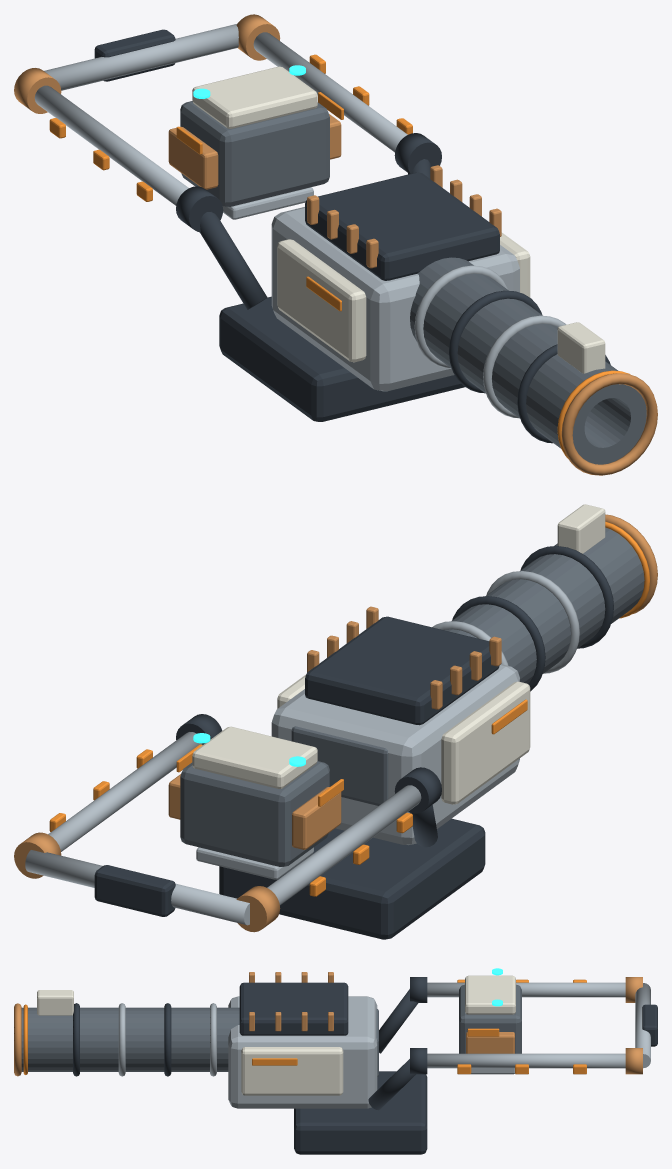
The model's file is M01-018_LEG-WPN-001_R1.glb.
3 views of the same model, one above another, from view 1: azimuth 30°, elevation 25°; view 2: azimuth 150°, elevation 25°; view 3: azimuth 270°, elevation 25° (orthographic). The views are drawn at different scales.
Visible parts, largest first — view 1: M01-018_True_hollow_barrel, M01-018_Receiver_upper, M01-018_Receiver, M01-018_Socket_foot, M01-018_Tungsten_counterweight, M01-018_Ceramic_shield_-1, M01-018_Counterweight_top_cap, M01-018_Open_rear_crossbar, M01-018_Exposed_guide_rail_-1, M01-018_Exposed_guide_rail_1, M01-018_Muzzle_copper_ring, M01-018_Rear_support_leg_-1 (+13 smaller); view 2: M01-018_Socket_foot, M01-018_Receiver_upper, M01-018_True_hollow_barrel, M01-018_Receiver, M01-018_Tungsten_counterweight, M01-018_Ceramic_shield_-1, M01-018_Counterweight_top_cap, M01-018_Breech_hatch, M01-018_Exposed_guide_rail_-1, M01-018_Exposed_guide_rail_1, M01-018_Open_rear_crossbar, M01-018_Rear_stop (+13 smaller); view 3: M01-018_True_hollow_barrel, M01-018_Socket_foot, M01-018_Receiver, M01-018_Receiver_upper, M01-018_Ceramic_shield_1, M01-018_Exposed_guide_rail_1, M01-018_Exposed_guide_rail_-1, M01-018_Counterweight_top_cap, M01-018_Tungsten_counterweight, M01-018_Top_muzzle_sight, M01-018_Counterweight_guide_fin_1, M01-018_Open_rear_crossbar (+16 smaller).
Part boxes in pixels (x1,y1,x2,y2): M01-018_True_hollow_barrel: (410,257,646,464); M01-018_Receiver_upper: (305,172,499,280); M01-018_Receiver: (271,207,519,391); M01-018_Socket_foot: (219,296,464,421); M01-018_Tungsten_counterweight: (180,101,329,206); M01-018_Ceramic_shield_-1: (277,239,366,362); M01-018_Counterweight_top_cap: (192,66,317,128); M01-018_Open_rear_crossbar: (44,24,238,90); M01-018_Exposed_guide_rail_-1: (34,85,188,205); M01-018_Exposed_guide_rail_1: (253,32,407,152); M01-018_Muzzle_copper_ring: (561,373,657,475); M01-018_Rear_support_leg_-1: (200,212,267,309); M01-018_Socket_foot: (219,818,485,939); M01-018_Receiver_upper: (305,616,499,725); M01-018_True_hollow_barrel: (444,527,644,683); M01-018_Receiver: (271,664,519,844); M01-018_Tungsten_counterweight: (180,761,329,866); M01-018_Ceramic_shield_-1: (441,681,530,804); M01-018_Counterweight_top_cap: (192,726,317,788); M01-018_Breech_hatch: (291,726,388,805); M01-018_Exposed_guide_rail_-1: (267,785,421,905); M01-018_Exposed_guide_rail_1: (48,732,202,851); M01-018_Open_rear_crossbar: (25,850,249,925); M01-018_Rear_stop: (94,865,175,916); M01-018_True_hollow_barrel: (21,1007,239,1071); M01-018_Socket_foot: (294,1071,427,1154); M01-018_Receiver: (228,996,377,1108); M01-018_Receiver_upper: (239,982,348,1035); M01-018_Ceramic_shield_1: (241,1047,343,1095); M01-018_Exposed_guide_rail_1: (427,1053,625,1068); M01-018_Exposed_guide_rail_-1: (427,982,625,997); M01-018_Counterweight_top_cap: (465,975,515,1014); M01-018_Tungsten_counterweight: (459,984,521,1053); M01-018_Top_muzzle_sight: (37,990,73,1015); M01-018_Counterweight_guide_fin_1: (466,1032,514,1053); M01-018_Open_rear_crossbar: (635,983,650,1068).
Bounding box in the file's own units: 1.17 × 0.9125 × 3.67.
